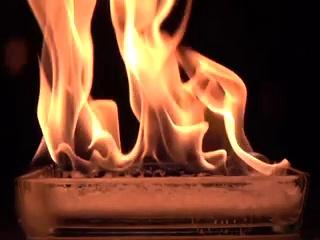Fire: (9, 1, 287, 181)
